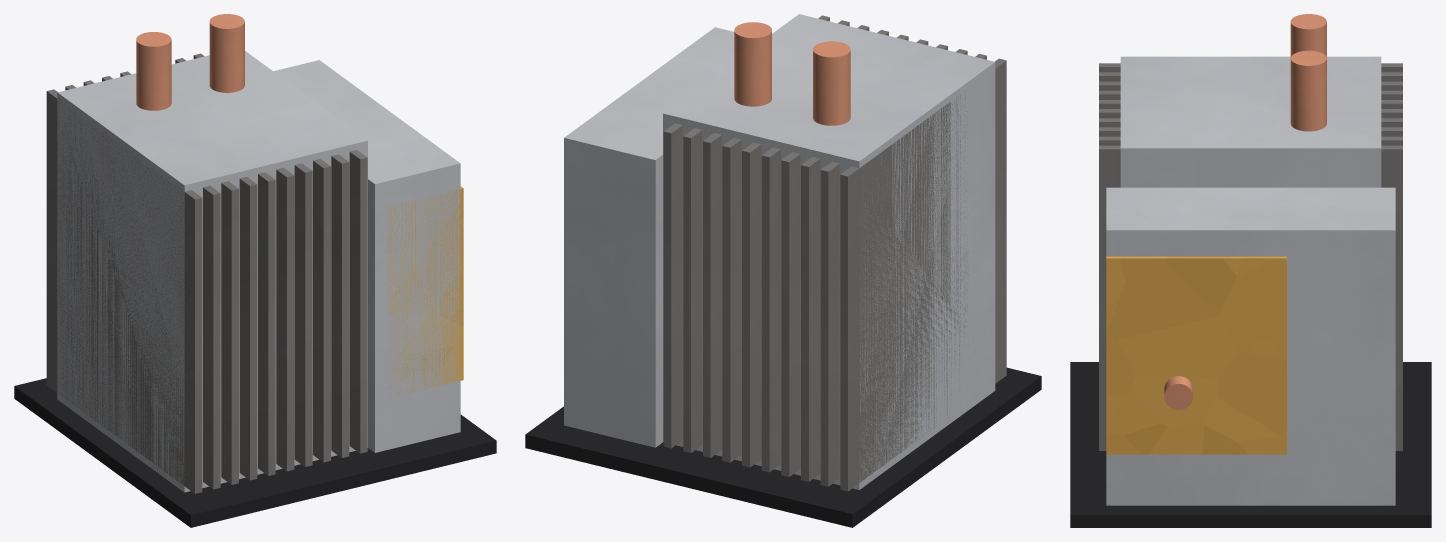
The model's file is power04_fuel_cell.glb.
3 views of the same model, side by side, from view 1: azimuth 30°, elevation 25°; view 2: azimuth 150°, elevation 25°; view 3: azimuth 270°, elevation 25° (orthographic). The views are drawn at different scales.
Parts seen in each view (by area): view 1: bipolar_plates, stack_core, controller, mount_tray, mli_patch, ports; view 2: bipolar_plates, stack_core, controller, mount_tray, ports; view 3: controller, mli_patch, stack_core, mount_tray, bipolar_plates, ports.
Part boxes in pixels (left/top/right/bottom): bipolar_plates: left=46, top=53, right=367, bottom=493; stack_core: left=57, top=51, right=367, bottom=492; controller: left=273, top=60, right=460, bottom=452; mount_tray: left=14, top=378, right=496, bottom=527; mli_patch: left=387, top=186, right=463, bottom=395; ports: left=136, top=14, right=244, bottom=110; bipolar_plates: left=663, top=15, right=1006, bottom=491; stack_core: left=663, top=14, right=995, bottom=489; controller: left=564, top=27, right=734, bottom=447; mount_tray: left=525, top=367, right=1041, bottom=527; ports: left=734, top=22, right=850, bottom=125; controller: left=1106, top=187, right=1395, bottom=505; mli_patch: left=1106, top=256, right=1286, bottom=454; stack_core: left=1120, top=56, right=1381, bottom=187; mount_tray: left=1070, top=362, right=1431, bottom=527; bipolar_plates: left=1099, top=63, right=1402, bottom=450; ports: left=1164, top=14, right=1326, bottom=409.
Bounding box in the file's own units: 0.5 × 0.6 × 0.5.
5 materials, 4 textured.
